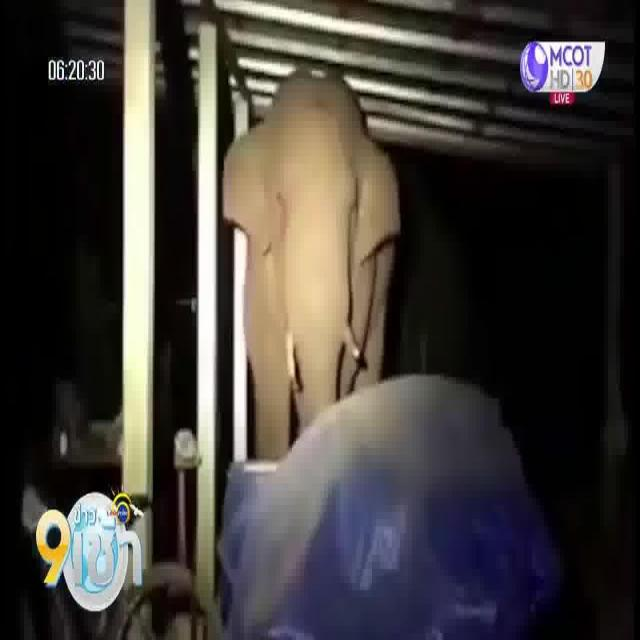Elephant: (223, 61, 386, 388)
